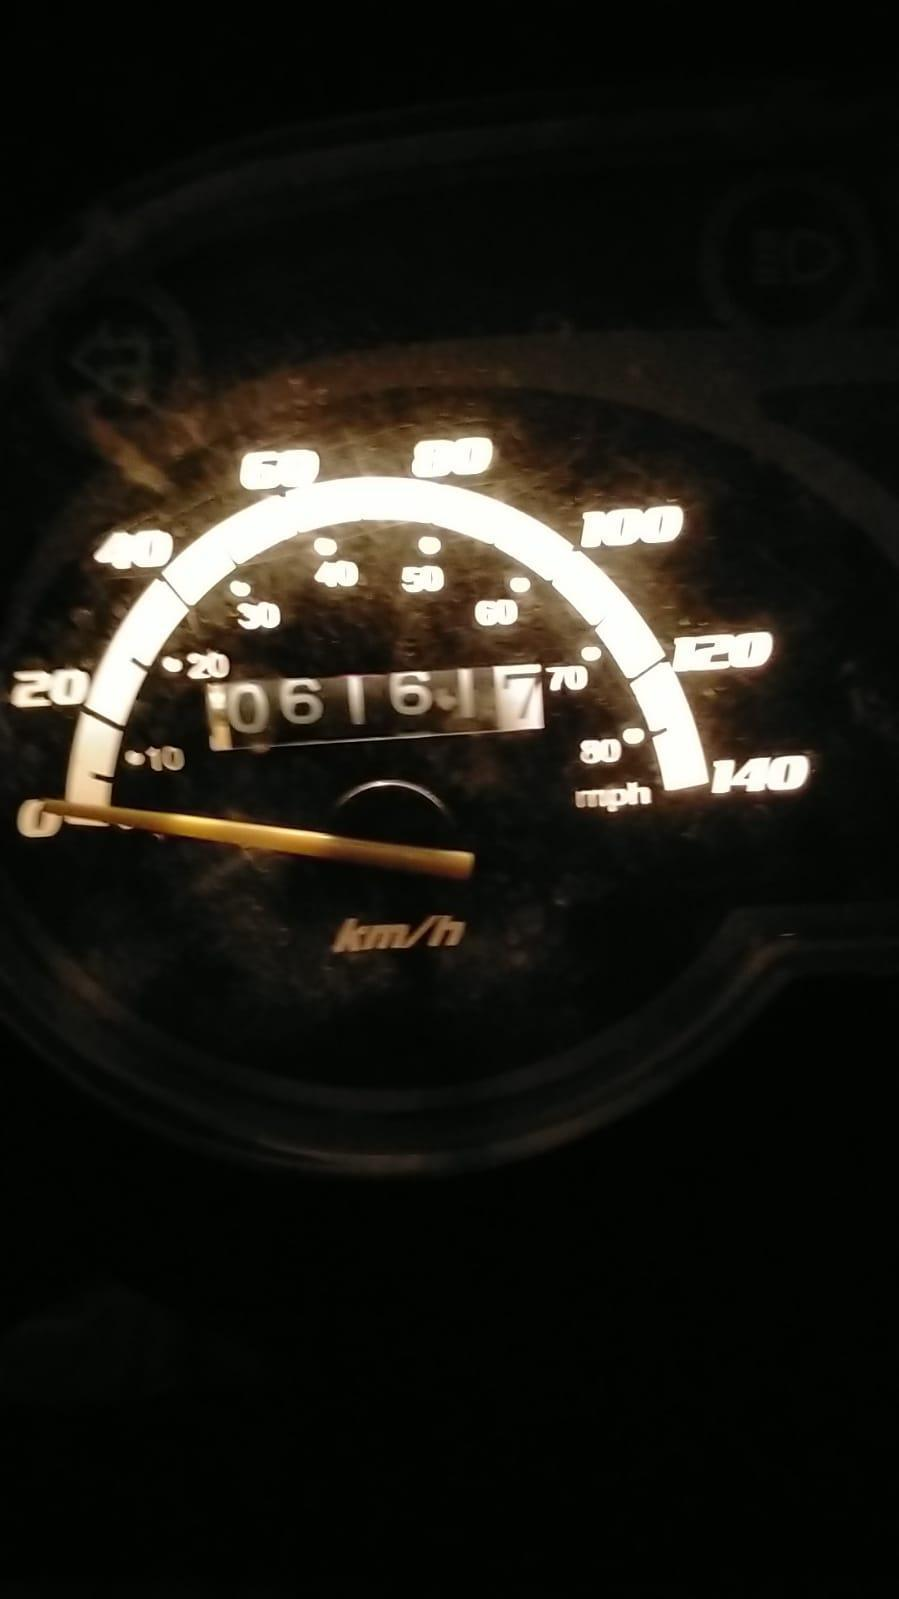0: (224, 679, 272, 741), (209, 650, 235, 680)
1: (453, 660, 485, 740), (340, 664, 371, 742)
6: (278, 672, 326, 728), (387, 663, 434, 714)
7: (501, 666, 544, 728), (546, 660, 566, 696)
odometer: (201, 658, 560, 754)
